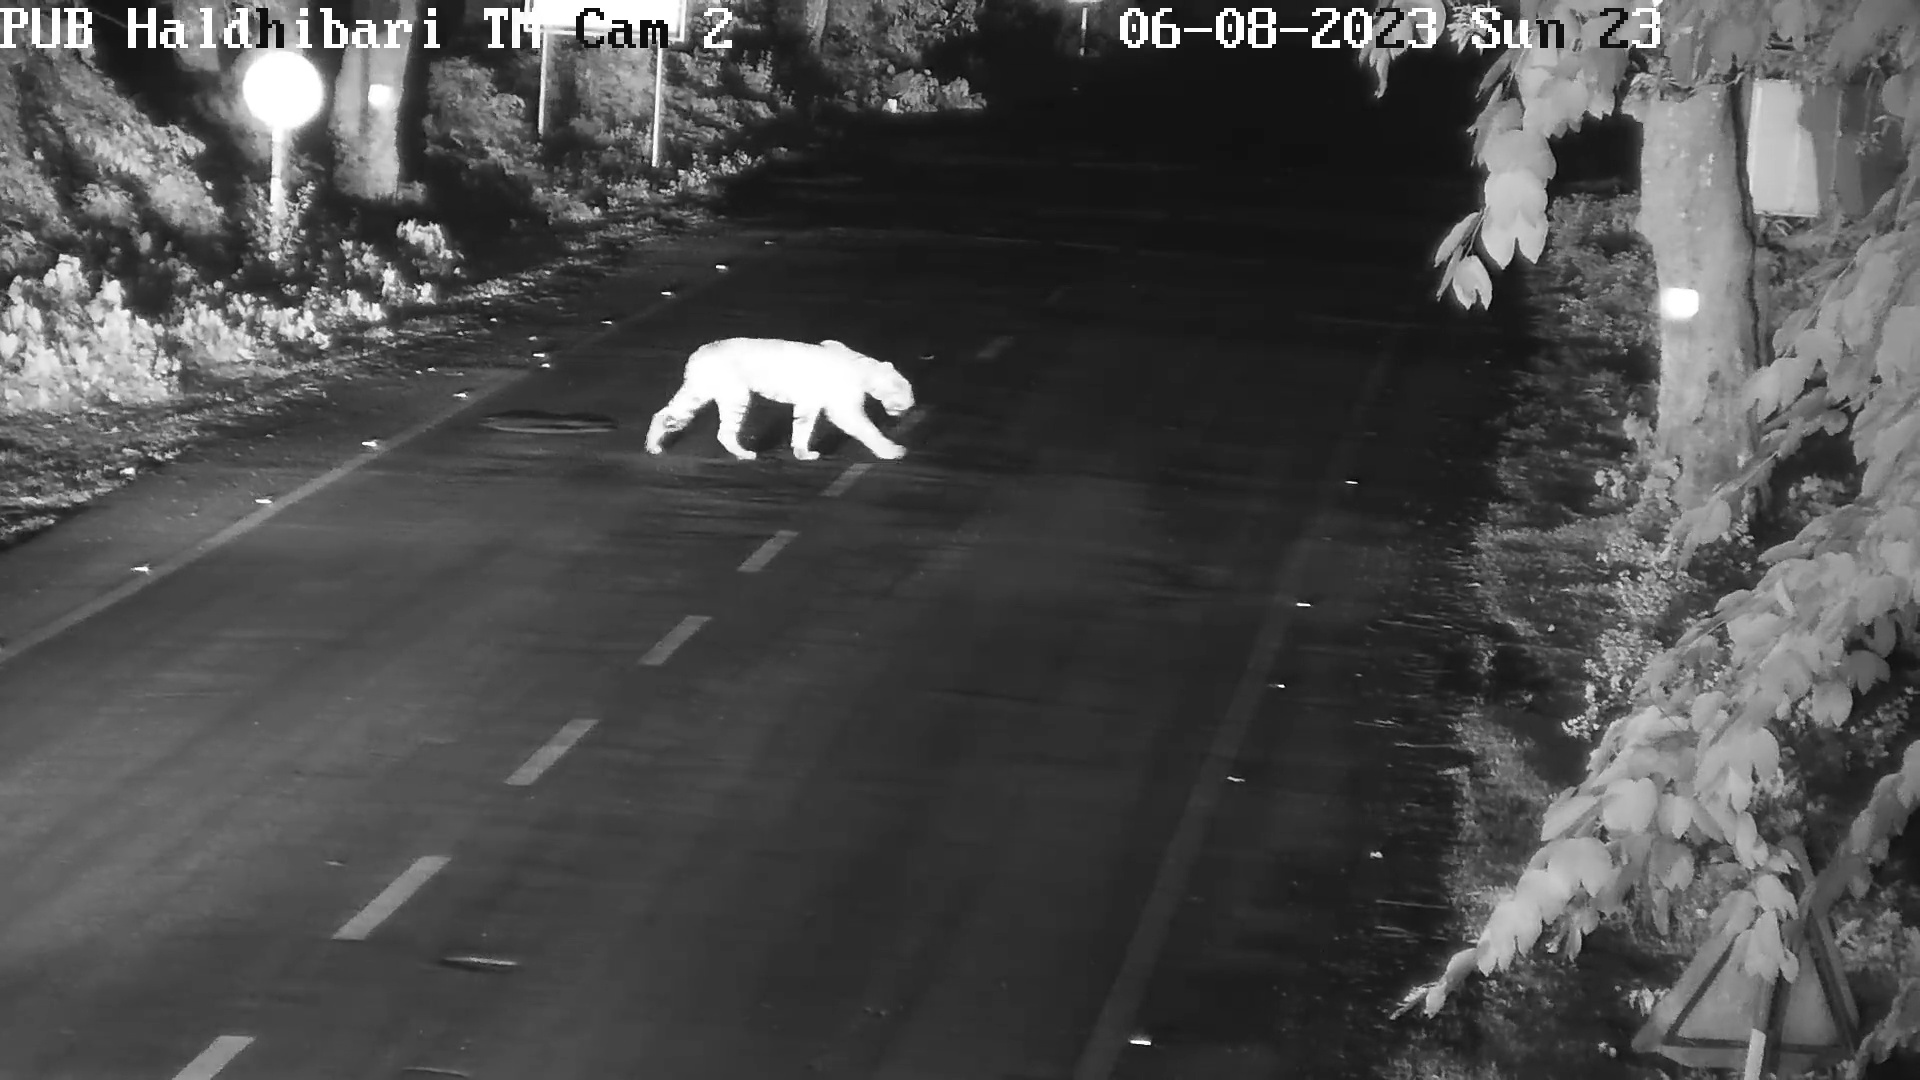tigers: (646, 335, 916, 471)
